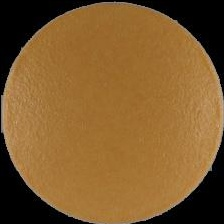53489-330: (0, 0, 224, 224)
